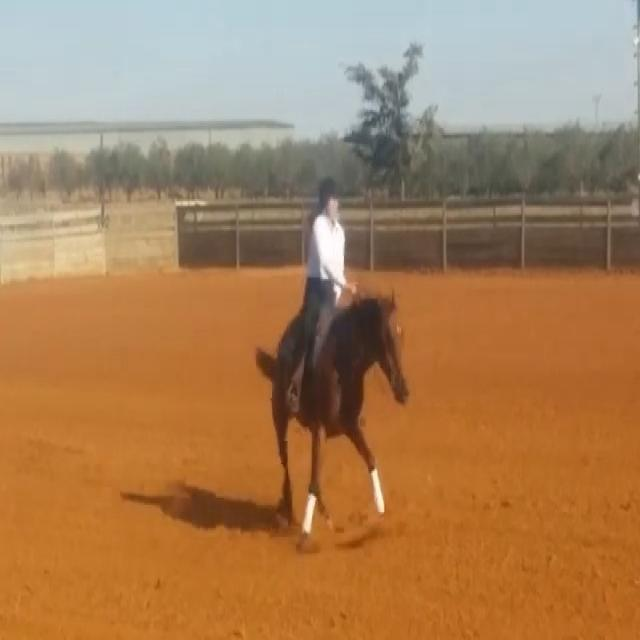horse: (253, 288, 410, 551)
